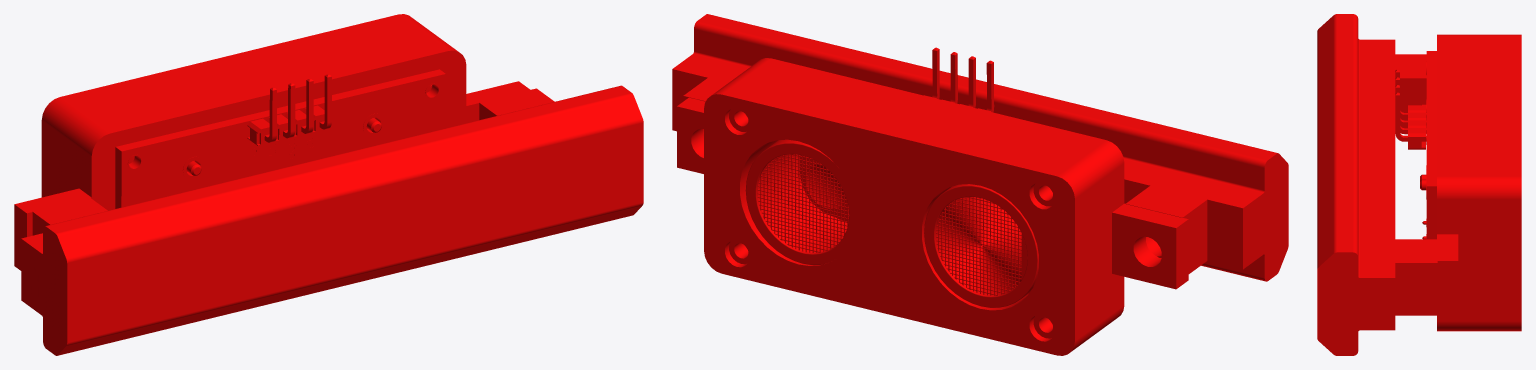
The model's file is sonar1.dae.
The picture shows the model from 3 angles, left to right: view 1: azimuth 30°, elevation 25°; view 2: azimuth 150°, elevation 25°; view 3: azimuth 270°, elevation 25°; orthographic projection. The views are drawn at different scales.
Parts seen in each view (by area): view 1: Body1 (×3), Platine.step.STEP.STEP; view 2: Body1 (×4), Platine.step.STEP.STEP, HC_SR04_gitter_001.step.STEP.STEP; view 3: Body1 (×3), Platine.step.STEP.STEP.
Boxes of the visible parts, box(x1,y1,x2,y2) form: Body1 (×3): box(14, 14, 643, 355); Platine.step.STEP.STEP: box(115, 69, 445, 208); Body1 (×4): box(672, 14, 1288, 355); Platine.step.STEP.STEP: box(745, 139, 1038, 307); HC_SR04_gitter_001.step.STEP.STEP: box(935, 197, 1027, 295); Body1 (×3): box(1317, 14, 1521, 355); Platine.step.STEP.STEP: box(1420, 51, 1436, 239).
Size of the model in its own units: 0.08 by 0.029 by 0.0278.
